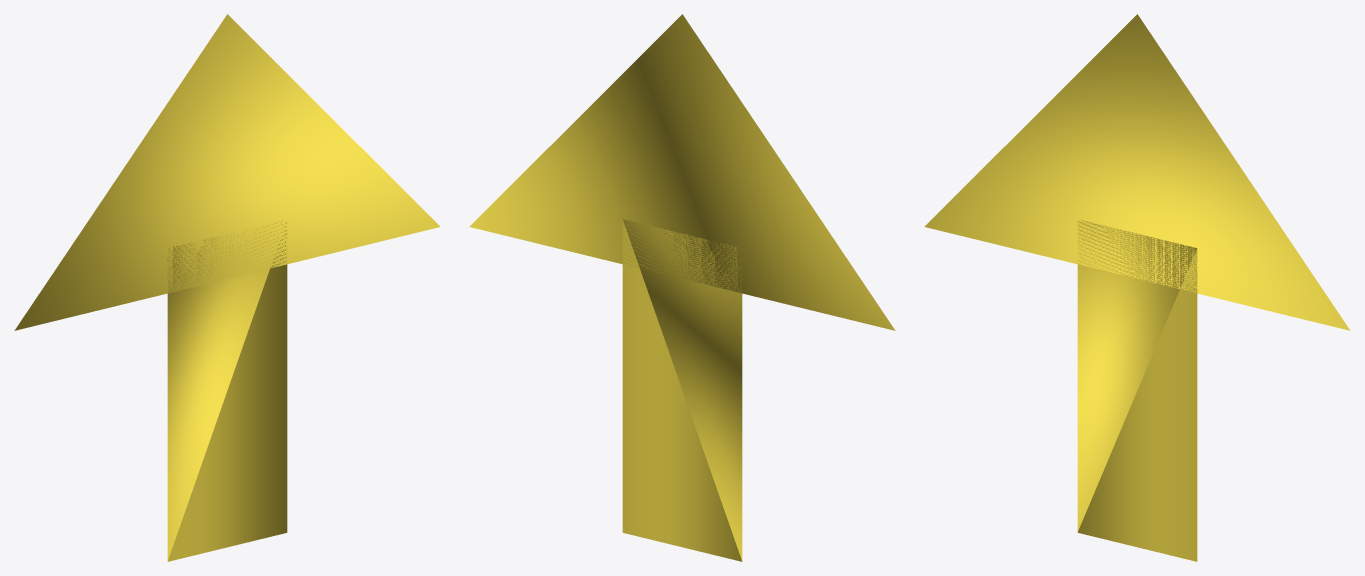
Rendered from arrow.glb.
3 views of the same model, side by side, from view 1: azimuth 30°, elevation 25°; view 2: azimuth 150°, elevation 25°; view 3: azimuth 330°, elevation 25° (orthographic).
Visible parts, largest first — view 1: arrow; view 2: arrow; view 3: arrow.
Part boxes in pixels (x1,y1,x2,y2): arrow: (14,14,440,561); arrow: (469,14,895,561); arrow: (924,14,1350,561).
Bounding box in the file's own units: 0.64 × 0.765 × 0.
